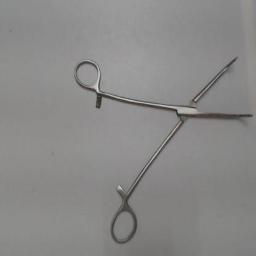Lahey Forceps: (70, 52, 254, 246)
